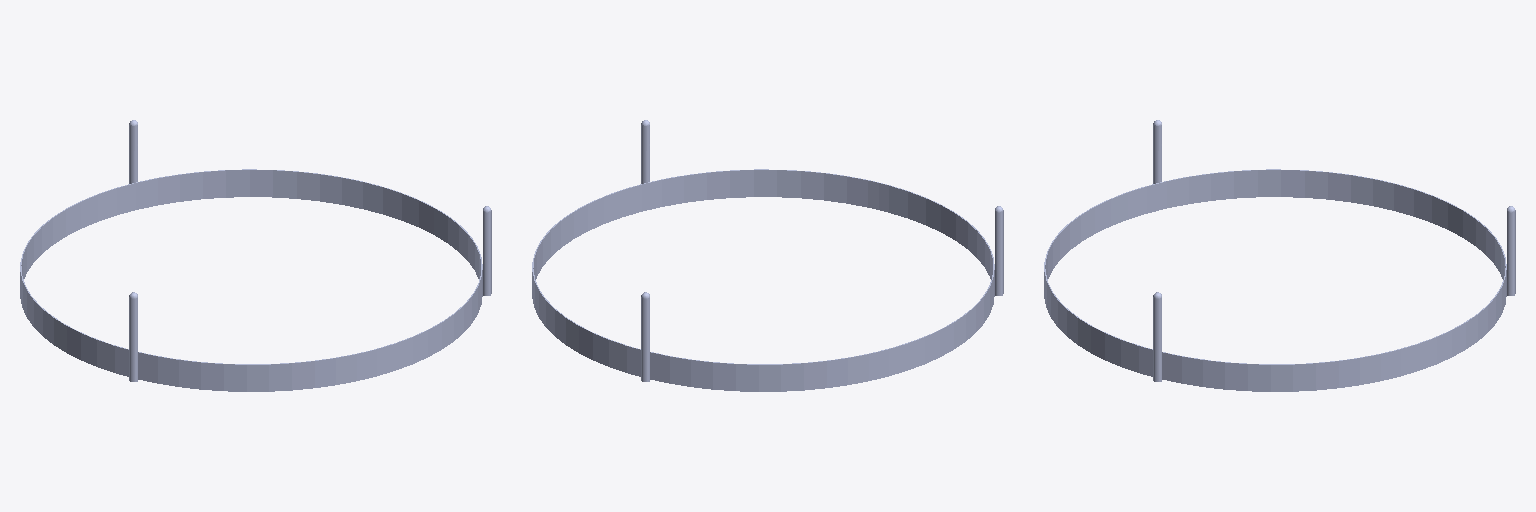
robot.urdf — GantryAssembly_NoGrasper:
<?xml version="0.0" ?>
<robot name="GantryAssembly_NoGrasper">
	<link name="base_link_gantry">
		<inertial>
			<origin rpy="0.00000 -0.00000 0.00000" xyz="-0.00000 -0.04199 0.01790"/>
			<mass value="5.77760"/>
			<inertia ixx="0.24100" ixy="0" ixz="0" iyy="0.18076" iyz="0" izz="0.41768"/>
		</inertial>
		<visual>
			<origin rpy="0.00000 -0.00000 0.00000" xyz="0.00000 0.00000 0.00000"/>
			<geometry>
				<mesh filename="[local-path]\FRR\FRR Soft Grasper\FRR_SoftGrasper\PyBullet Model\Gantry\envs\URDF/GantryAssembly_NoGrasper/meshes/base_link.STL" scale="1.00000 1.00000 1.00000"/>
			</geometry>
			<material name="mat_-1_0">
				<color rgba="0.89804 0.91765 0.92941 1.00000" />
			</material>
		</visual>
		<collision>
			<origin rpy="0.00000 -0.00000 0.00000" xyz="0.00000 0.00000 0.00000"/>
			<geometry>
				<mesh filename="[local-path]\FRR\FRR Soft Grasper\FRR_SoftGrasper\PyBullet Model\Gantry\envs\URDF/GantryAssembly_NoGrasper/meshes/base_link.STL" scale="1.00000 1.00000 1.00000"/>
			</geometry>
		</collision>
	</link>
	<link name="LeftUpright">
		<inertial>
			<origin rpy="0.00000 -0.00000 0.00000" xyz="-0.28158 0.35631 -0.04199"/>
			<mass value="1.48860"/>
			<inertia ixx="0.05703" ixy="0" ixz="0" iyy="0.00035" iyz="0" izz="0.05721"/>
		</inertial>
		<visual>
			<origin rpy="0.00000 -0.00000 0.00000" xyz="0.00000 0.00000 0.00000"/>
			<geometry>
				<mesh filename="[local-path]\FRR\FRR Soft Grasper\FRR_SoftGrasper\PyBullet Model\Gantry\envs\URDF/GantryAssembly_NoGrasper/meshes/LeftUpright.STL" scale="1.00000 1.00000 1.00000"/>
			</geometry>
			<material name="mat_0_0">
				<color rgba="0.89804 0.91765 0.92941 1.00000" />
			</material>
		</visual>
		<collision>
			<origin rpy="0.00000 -0.00000 0.00000" xyz="0.00000 0.00000 0.00000"/>
			<geometry>
				<mesh filename="[local-path]\FRR\FRR Soft Grasper\FRR_SoftGrasper\PyBullet Model\Gantry\envs\URDF/GantryAssembly_NoGrasper/meshes/LeftUpright.STL" scale="1.00000 1.00000 1.00000"/>
			</geometry>
		</collision>
	</link>
	<link name="ZBar">
		<inertial>
			<origin rpy="0.00000 -0.00000 0.00000" xyz="0.00000 0.01023 -0.04199"/>
			<mass value="0.92261"/>
			<inertia ixx="0.00016" ixy="0" ixz="0" iyy="0.03054" iyz="0" izz="0.03050"/>
		</inertial>
		<visual>
			<origin rpy="0.00000 -0.00000 0.00000" xyz="0.00000 0.00000 0.00000"/>
			<geometry>
				<mesh filename="[local-path]\FRR\FRR Soft Grasper\FRR_SoftGrasper\PyBullet Model\Gantry\envs\URDF/GantryAssembly_NoGrasper/meshes/ZBar.STL" scale="1.00000 1.00000 1.00000"/>
			</geometry>
			<material name="mat_1_0">
				<color rgba="0.89804 0.91765 0.92941 1.00000" />
			</material>
		</visual>
		<collision>
			<origin rpy="0.00000 -0.00000 0.00000" xyz="0.00000 0.00000 0.00000"/>
			<geometry>
				<mesh filename="[local-path]\FRR\FRR Soft Grasper\FRR_SoftGrasper\PyBullet Model\Gantry\envs\URDF/GantryAssembly_NoGrasper/meshes/ZBar.STL" scale="1.00000 1.00000 1.00000"/>
			</geometry>
		</collision>
	</link>
	<link name="GrasperBase">
		<inertial>
			<origin rpy="0.00000 -0.00000 0.00000" xyz="-0.02860 0.01748 0.00000"/>
			<mass value="0.26347"/>
			<inertia ixx="0.00011" ixy="0" ixz="0" iyy="0.00016" iyz="0" izz="0.00012"/>
		</inertial>
		<visual>
			<origin rpy="0.00000 -0.00000 0.00000" xyz="0.00000 0.00000 0.00000"/>
			<geometry>
				<mesh filename="[local-path]\FRR\FRR Soft Grasper\FRR_SoftGrasper\PyBullet Model\Gantry\envs\URDF/GantryAssembly_NoGrasper/meshes/GrasperBase.STL" scale="1.00000 1.00000 1.00000"/>
			</geometry>
			<material name="mat_2_0">
				<color rgba="0.89804 0.91765 0.92941 1.00000" />
			</material>
		</visual>
		<collision>
			<origin rpy="0.00000 -0.00000 0.00000" xyz="0.00000 0.00000 0.00000"/>
			<geometry>
				<mesh filename="[local-path]\FRR\FRR Soft Grasper\FRR_SoftGrasper\PyBullet Model\Gantry\envs\URDF/GantryAssembly_NoGrasper/meshes/GrasperBase.STL" scale="1.00000 1.00000 1.00000"/>
			</geometry>
		</collision>
	</link>
	<link name="RightUpright">
		<inertial>
			<origin rpy="0.00000 -0.00000 0.00000" xyz="0.28158 0.35631 -0.04199"/>
			<mass value="1.48860"/>
			<inertia ixx="0.05703" ixy="0" ixz="0" iyy="0.00035" iyz="0" izz="0.05721"/>
		</inertial>
		<visual>
			<origin rpy="0.00000 -0.00000 0.00000" xyz="0.00000 0.00000 0.00000"/>
			<geometry>
				<mesh filename="[local-path]\FRR\FRR Soft Grasper\FRR_SoftGrasper\PyBullet Model\Gantry\envs\URDF/GantryAssembly_NoGrasper/meshes/RightUpright.STL" scale="1.00000 1.00000 1.00000"/>
			</geometry>
			<material name="mat_3_0">
				<color rgba="0.89804 0.91765 0.92941 1.00000" />
			</material>
		</visual>
		<collision>
			<origin rpy="0.00000 -0.00000 0.00000" xyz="0.00000 0.00000 0.00000"/>
			<geometry>
				<mesh filename="[local-path]\FRR\FRR Soft Grasper\FRR_SoftGrasper\PyBullet Model\Gantry\envs\URDF/GantryAssembly_NoGrasper/meshes/RightUpright.STL" scale="1.00000 1.00000 1.00000"/>
			</geometry>
		</collision>
	</link>
	<link name="BasePlate">
		<inertial>
			<origin rpy="0.00000 -0.00000 0.00000" xyz="0.00000 0.00191 -0.25718"/>
			<mass value="2.72860"/>
			<inertia ixx="0.06159" ixy="0" ixz="0" iyy="0.12313" iyz="0" izz="0.06159"/>
		</inertial>
		<visual>
			<origin rpy="0.00000 -0.00000 0.00000" xyz="0.00000 0.00000 0.00000"/>
			<geometry>
				<mesh filename="[local-path]\FRR\FRR Soft Grasper\FRR_SoftGrasper\PyBullet Model\Gantry\envs\URDF/GantryAssembly_NoGrasper/meshes/BasePlate.STL" scale="1.00000 1.00000 1.00000"/>
			</geometry>
			<material name="mat_4_0">
				<color rgba="0.89804 0.91765 0.92941 1.00000" />
			</material>
		</visual>
		<collision>
			<origin rpy="0.00000 -0.00000 0.00000" xyz="0.00000 0.00000 0.00000"/>
			<geometry>
				<mesh filename="[local-path]\FRR\FRR Soft Grasper\FRR_SoftGrasper\PyBullet Model\Gantry\envs\URDF/GantryAssembly_NoGrasper/meshes/BasePlate.STL" scale="1.00000 1.00000 1.00000"/>
			</geometry>
		</collision>
	</link>
	<link name="base_link">
		<inertial>
			<origin rpy="0.00000 -0.00000 0.00000" xyz="0.00000 -0.01391 0.00000"/>
			<mass value="0.26347"/>
			<inertia ixx="0.00109" ixy="0" ixz="0" iyy="0.00090" iyz="0" izz="0.00167"/>
		</inertial>
		<visual>
			<origin rpy="0.00000 -0.00000 0.00000" xyz="0.00000 0.00000 0.00000"/>
			<geometry>
				<mesh filename="Grasper/SoftGrasper/URDF/SoftGrasperAssembly_SimplifiedTilt/meshes/base_link.STL" scale="1.00000 1.00000 1.00000"/>
			</geometry>
			<material name="mat_-1_0">
				<color rgba="0.79216 0.81961 0.93333 1.00000" />
			</material>
		</visual>
		<collision>
			<origin rpy="0.00000 -0.00000 0.00000" xyz="0.00000 0.00000 0.00000"/>
			<geometry>
				<mesh filename="Grasper/SoftGrasper/URDF/SoftGrasperAssembly_SimplifiedTilt/meshes/base_link.STL" scale="1.00000 1.00000 1.00000"/>
			</geometry>
		</collision>
	</link>
	<link name="CylinderCons">
		<inertial>
			<origin rpy="0.00000 -0.00000 0.00000" xyz="-0.00000 -0.02443 0.00000"/>
			<mass value="0.00260"/>
			<inertia ixx="0.00001" ixy="0" ixz="0" iyy="0.00001" iyz="0" izz="0.00001"/>
		</inertial>
		<visual>
			<origin rpy="0.00000 -0.00000 0.00000" xyz="0.00000 0.00000 0.00000"/>
			<geometry>
				<mesh filename="Grasper/SoftGrasper/URDF/SoftGrasperAssembly_SimplifiedTilt/meshes/CylinderCons.STL" scale="1.00000 1.00000 1.00000"/>
			</geometry>
			<material name="mat_0_0">
				<color rgba="0.79216 0.81961 0.93333 1.00000" />
			</material>
		</visual>
		<collision>
			<origin rpy="0.00000 -0.00000 0.00000" xyz="0.00000 0.00000 0.00000"/>
			<geometry>
				<mesh filename="Grasper/SoftGrasper/URDF/SoftGrasperAssembly_SimplifiedTilt/meshes/CylinderCons.obj" scale="1.00000 1.00000 1.00000"/>
			</geometry>
		</collision>
	</link>
	<link name="SoftSupport1">
		<inertial>
			<origin rpy="0.00000 -0.00000 0.00000" xyz="-0.00000 -0.00006 -0.00968"/>
			<mass value="0.02002"/>
			<inertia ixx="0.00001" ixy="0" ixz="0" iyy="0.00001" iyz="0" izz="0.00001"/>
		</inertial>
		<visual>
			<origin rpy="0.00000 -0.00000 0.00000" xyz="0.00000 0.00000 0.00000"/>
			<geometry>
				<mesh filename="Grasper/SoftGrasper/URDF/SoftGrasperAssembly_SimplifiedTilt/meshes/SoftSupport1.STL" scale="1.00000 1.00000 1.00000"/>
			</geometry>
			<material name="mat_1_0">
				<color rgba="0.79216 0.81961 0.93333 1.00000" />
			</material>
		</visual>
		<collision>
			<origin rpy="0.00000 -0.00000 0.00000" xyz="0.00000 0.00000 0.00000"/>
			<geometry>
				<mesh filename="Grasper/SoftGrasper/URDF/SoftGrasperAssembly_SimplifiedTilt/meshes/SoftSupport1.STL" scale="1.00000 1.00000 1.00000"/>
			</geometry>
		</collision>
	</link>
	<link name="SoftJaw1">
		<inertial>
			<origin rpy="0.00000 -0.00000 0.00000" xyz="-0.00000 0.00000 -0.05439"/>
			<mass value="0.01512"/>
			<inertia ixx="0.00000" ixy="0" ixz="0" iyy="0.00000" iyz="0" izz="0.00000"/>
		</inertial>
		<visual>
			<origin rpy="0.00000 -0.00000 0.00000" xyz="0.00000 0.00000 0.00000"/>
			<geometry>
				<mesh filename="Grasper/SoftGrasper/URDF/SoftGrasperAssembly_SimplifiedTilt/meshes/SoftJaw1.STL" scale="1.00000 1.00000 1.00000"/>
			</geometry>
			<material name="mat_2_0">
				<color rgba="0.79216 0.81961 0.93333 1.00000" />
			</material>
		</visual>
		<collision>
			<origin rpy="0.00000 -0.00000 0.00000" xyz="0.00000 0.00000 0.00000"/>
			<geometry>
				<mesh filename="Grasper/SoftGrasper/URDF/SoftGrasperAssembly_SimplifiedTilt/meshes/SoftJaw1.STL" scale="1.00000 1.00000 1.00000"/>
			</geometry>
		</collision>
	</link>
	<link name="SoftSupport2">
		<inertial>
			<origin rpy="0.00000 -0.00000 0.00000" xyz="-0.00000 -0.00006 -0.00549"/>
			<mass value="0.02002"/>
			<inertia ixx="0.00001" ixy="0" ixz="0" iyy="0.00001" iyz="0" izz="0.00001"/>
		</inertial>
		<visual>
			<origin rpy="0.00000 -0.00000 0.00000" xyz="0.00000 0.00000 0.00000"/>
			<geometry>
				<mesh filename="Grasper/SoftGrasper/URDF/SoftGrasperAssembly_SimplifiedTilt/meshes/SoftSupport2.STL" scale="1.00000 1.00000 1.00000"/>
			</geometry>
			<material name="mat_3_0">
				<color rgba="0.79216 0.81961 0.93333 1.00000" />
			</material>
		</visual>
		<collision>
			<origin rpy="0.00000 -0.00000 0.00000" xyz="0.00000 0.00000 0.00000"/>
			<geometry>
				<mesh filename="Grasper/SoftGrasper/URDF/SoftGrasperAssembly_SimplifiedTilt/meshes/SoftSupport2.STL" scale="1.00000 1.00000 1.00000"/>
			</geometry>
		</collision>
	</link>
	<link name="SoftJaw2">
		<inertial>
			<origin rpy="0.00000 -0.00000 0.00000" xyz="0.00000 0.00000 -0.05439"/>
			<mass value="0.01512"/>
			<inertia ixx="0.00000" ixy="0" ixz="0" iyy="0.00000" iyz="0" izz="0.00000"/>
		</inertial>
		<visual>
			<origin rpy="0.00000 -0.00000 0.00000" xyz="0.00000 0.00000 0.00000"/>
			<geometry>
				<mesh filename="Grasper/SoftGrasper/URDF/SoftGrasperAssembly_SimplifiedTilt/meshes/SoftJaw2.STL" scale="1.00000 1.00000 1.00000"/>
			</geometry>
			<material name="mat_4_0">
				<color rgba="0.79216 0.81961 0.93333 1.00000" />
			</material>
		</visual>
		<collision>
			<origin rpy="0.00000 -0.00000 0.00000" xyz="0.00000 0.00000 0.00000"/>
			<geometry>
				<mesh filename="Grasper/SoftGrasper/URDF/SoftGrasperAssembly_SimplifiedTilt/meshes/SoftJaw2.STL" scale="1.00000 1.00000 1.00000"/>
			</geometry>
		</collision>
	</link>
	<link name="SoftSupport3">
		<inertial>
			<origin rpy="0.00000 -0.00000 0.00000" xyz="0.00000 -0.00006 -0.03111"/>
			<mass value="0.02002"/>
			<inertia ixx="0.00001" ixy="0" ixz="0" iyy="0.00001" iyz="0" izz="0.00001"/>
		</inertial>
		<visual>
			<origin rpy="0.00000 -0.00000 0.00000" xyz="0.00000 0.00000 0.00000"/>
			<geometry>
				<mesh filename="Grasper/SoftGrasper/URDF/SoftGrasperAssembly_SimplifiedTilt/meshes/SoftSupport3.STL" scale="1.00000 1.00000 1.00000"/>
			</geometry>
			<material name="mat_5_0">
				<color rgba="0.79216 0.81961 0.93333 1.00000" />
			</material>
		</visual>
		<collision>
			<origin rpy="0.00000 -0.00000 0.00000" xyz="0.00000 0.00000 0.00000"/>
			<geometry>
				<mesh filename="Grasper/SoftGrasper/URDF/SoftGrasperAssembly_SimplifiedTilt/meshes/SoftSupport3.STL" scale="1.00000 1.00000 1.00000"/>
			</geometry>
		</collision>
	</link>
	<link name="SoftJaw3">
		<inertial>
			<origin rpy="0.00000 -0.00000 0.00000" xyz="-0.00000 -0.00000 -0.05439"/>
			<mass value="0.01512"/>
			<inertia ixx="0.00000" ixy="0" ixz="0" iyy="0.00000" iyz="0" izz="0.00000"/>
		</inertial>
		<visual>
			<origin rpy="0.00000 -0.00000 0.00000" xyz="0.00000 0.00000 0.00000"/>
			<geometry>
				<mesh filename="Grasper/SoftGrasper/URDF/SoftGrasperAssembly_SimplifiedTilt/meshes/SoftJaw3.STL" scale="1.00000 1.00000 1.00000"/>
			</geometry>
			<material name="mat_6_0">
				<color rgba="0.79216 0.81961 0.93333 1.00000" />
			</material>
		</visual>
		<collision>
			<origin rpy="0.00000 -0.00000 0.00000" xyz="0.00000 0.00000 0.00000"/>
			<geometry>
				<mesh filename="Grasper/SoftGrasper/URDF/SoftGrasperAssembly_SimplifiedTilt/meshes/SoftJaw3.STL" scale="1.00000 1.00000 1.00000"/>
			</geometry>
		</collision>
	</link>
	<joint name="LeftUprightJoint" type="fixed">
		<parent link="base_link_gantry"/>
		<child link="LeftUpright"/>
		<dynamics damping="1.0" friction="0.0001"/>
		<origin rpy="1.57080 -0.00000 0.00000" xyz="0.00000 -0.04199 0.00000"/>
		<axis xyz="0.00000 0.00000 0.00000"/>
	</joint>
	<joint name="ZBar_Joint" type="prismatic">
		<parent link="LeftUpright"/>
		<child link="ZBar"/>
		<limit effort="0.00000" lower="-0.50000" upper="0.00000" velocity="0.00000"/>
		<dynamics damping="1.0" friction="0.0001"/>
		<origin rpy="0.00000 -0.00000 0.00000" xyz="0.00000 0.56296 0.00000"/>
		<axis xyz="0.00000 1.00000 0.00000"/>
	</joint>
	<joint name="GrasperBase" type="prismatic">
		<parent link="ZBar"/>
		<child link="GrasperBase"/>
		<limit effort="0.00000" lower="-0.20000" upper="0.20000" velocity="0.00000"/>
		<dynamics damping="1.0" friction="0.0001"/>
		<origin rpy="0.00000 -0.00000 0.00000" xyz="0.02860 -0.03480 -0.04199"/>
		<axis xyz="1.00000 0.00000 0.00000"/>
	</joint>
	<joint name="RightUprightJoint" type="fixed">
		<parent link="base_link_gantry"/>
		<child link="RightUpright"/>
		<dynamics damping="1.0" friction="0.0001"/>
		<origin rpy="1.57080 -0.00000 0.00000" xyz="0.00000 -0.04199 0.00000"/>
		<axis xyz="0.00000 0.00000 0.00000"/>
	</joint>
	<joint name="BasePlateJoint" type="prismatic">
		<parent link="base_link_gantry"/>
		<child link="BasePlate"/>
		<limit effort="0.00000" lower="-0.30000" upper="0.30000" velocity="0.00000"/>
		<dynamics damping="1.0" friction="0.0001"/>
		<origin rpy="1.57080 -0.00000 0.00000" xyz="0.00000 -0.25718 0.05914"/>
		<axis xyz="0.00000 0.00000 1.00000"/>
	</joint>
	<joint name="joint_dummy1" type="fixed">
		<parent link="GrasperBase"/>
		<child link="base_link"/>
		<dynamics damping="1.0" friction="0.0001"/>
		<origin rpy="-1.57080 0.00000 0.00000" xyz="-0.02800 0.00000 0.00000"/>
		<axis xyz="0.00000 0.00000 1.00000"/>
	</joint>
	<joint name="BCC" type="prismatic">
		<parent link="base_link"/>
		<child link="CylinderCons"/>
		<limit effort="0.00000" lower="-2.50000" upper="2.50000" velocity="0.00000"/>
		<dynamics damping="1.0" friction="0.0001"/>
		<origin rpy="1.57080 -0.00000 0.00000" xyz="0.00000 0.00000 -0.07748"/>
		<axis xyz="0.00000 1.00000 0.00000"/>
	</joint>
	<joint name="LinearJaw1" type="prismatic">
		<parent link="CylinderCons"/>
		<child link="SoftSupport1"/>
		<limit effort="0.00000" lower="0.00000" upper="0.02800" velocity="0.00000"/>
		<dynamics damping="1.0" friction="0.0001"/>
		<origin rpy="0.00000 -0.00000 0.00000" xyz="0.00000 -0.02724 -0.05983"/>
		<axis xyz="0.00000 0.00000 1.00000"/>
	</joint>
	<joint name="SJ1" type="fixed">
		<parent link="SoftSupport1"/>
		<child link="SoftJaw1"/>
		<dynamics damping="1.0" friction="0.0001"/>
		<origin rpy="0.00000 -0.00000 0.00000" xyz="0.00000 0.00000 0.05983"/>
		<axis xyz="0.00000 0.00000 0.00000"/>
	</joint>
	<joint name="LinearJaw2" type="prismatic">
		<parent link="CylinderCons"/>
		<child link="SoftSupport2"/>
		<limit effort="0.00000" lower="0.00000" upper="0.02800" velocity="0.00000"/>
		<dynamics damping="1.0" friction="0.0001"/>
		<origin rpy="-3.14159 1.04720 -3.14159" xyz="-0.05544 -0.02724 0.03201"/>
		<axis xyz="0.00000 0.00000 1.00000"/>
	</joint>
	<joint name="SJ2" type="fixed">
		<parent link="SoftSupport2"/>
		<child link="SoftJaw2"/>
		<dynamics damping="1.0" friction="0.0001"/>
		<origin rpy="0.00000 -0.00000 0.00000" xyz="0.00000 0.00000 0.06402"/>
		<axis xyz="0.00000 0.00000 0.00000"/>
	</joint>
	<joint name="LinearJaw3" type="prismatic">
		<parent link="CylinderCons"/>
		<child link="SoftSupport3"/>
		<limit effort="0.00000" lower="0.00000" upper="0.02800" velocity="0.00000"/>
		<dynamics damping="1.0" friction="0.0001"/>
		<origin rpy="-3.14159 -1.04720 -3.14159" xyz="0.03325 -0.02724 0.01920"/>
		<axis xyz="0.00000 0.00000 1.00000"/>
	</joint>
	<joint name="SJ3" type="fixed">
		<parent link="SoftSupport3"/>
		<child link="SoftJaw3"/>
		<dynamics damping="1.0" friction="0.0001"/>
		<origin rpy="0.00000 -0.00000 0.00000" xyz="0.00000 0.00000 0.03840"/>
		<axis xyz="0.00000 0.00000 0.00000"/>
	</joint>
</robot>

--- Facts derived from the render (not from the file) ---
The picture shows the robot from 3 angles, left to right: view 1: azimuth 30°, elevation 25°; view 2: azimuth 150°, elevation 25°; view 3: azimuth 270°, elevation 25°; orthographic projection.
Robot: GantryAssembly_NoGrasper — 14 links, 13 joints (7 prismatic, 6 fixed); root link base_link_gantry; default pose: all joints at 0.
Links seen in each view (by area): view 1: CylinderCons; view 2: CylinderCons; view 3: CylinderCons.
Link boxes in pixels (x1,y1,x2,y2): CylinderCons: [20, 120, 491, 391]; CylinderCons: [532, 120, 1003, 391]; CylinderCons: [1044, 120, 1515, 391].
Bounding box of the posed robot: 0.1539 × 0.1568 × 0.0322 m (x, y, z).
Meshes: 8 distinct files referenced, 1 mesh visuals loaded (1 binary STL); not drawn: 7 (reference not matched to a file when rendering), 6 (reference in a form the renderer does not follow; not among the files counted above).